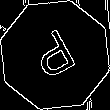P_SE: (26, 24, 84, 86)
